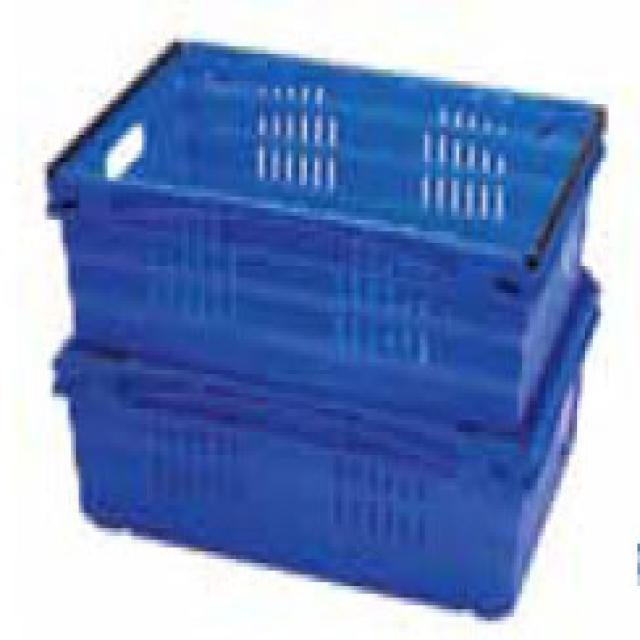basket: (0, 26, 632, 623)
